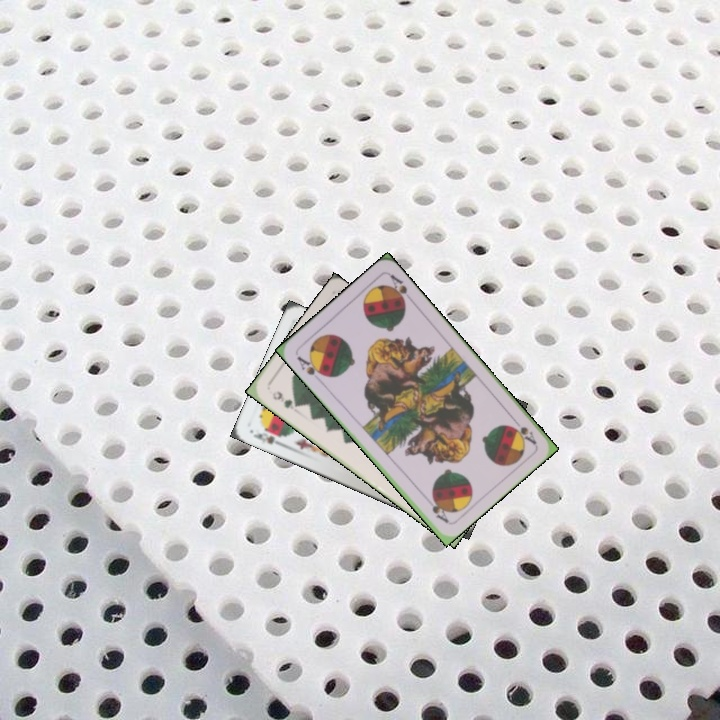G9: (268, 387, 302, 412)
SA: (506, 413, 540, 447), (292, 352, 328, 379)
SK: (249, 425, 287, 450)
